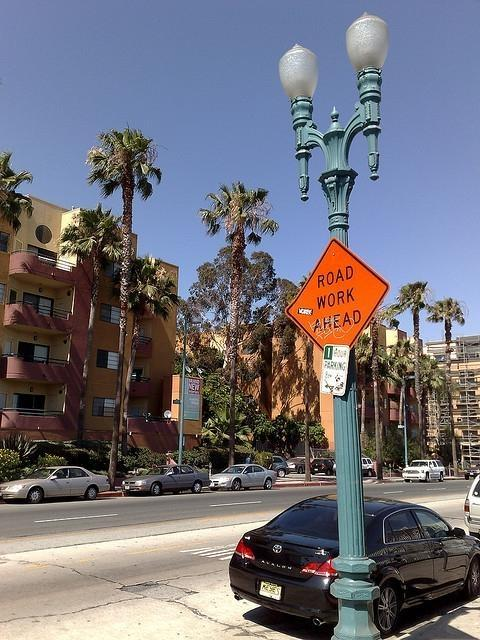car: (224, 488, 480, 640), (0, 466, 110, 504), (121, 464, 211, 496), (210, 464, 278, 490), (402, 459, 446, 484), (464, 474, 480, 540), (286, 458, 314, 474), (310, 460, 336, 476), (273, 456, 290, 478)
truck: (402, 459, 446, 482), (362, 458, 374, 476)
